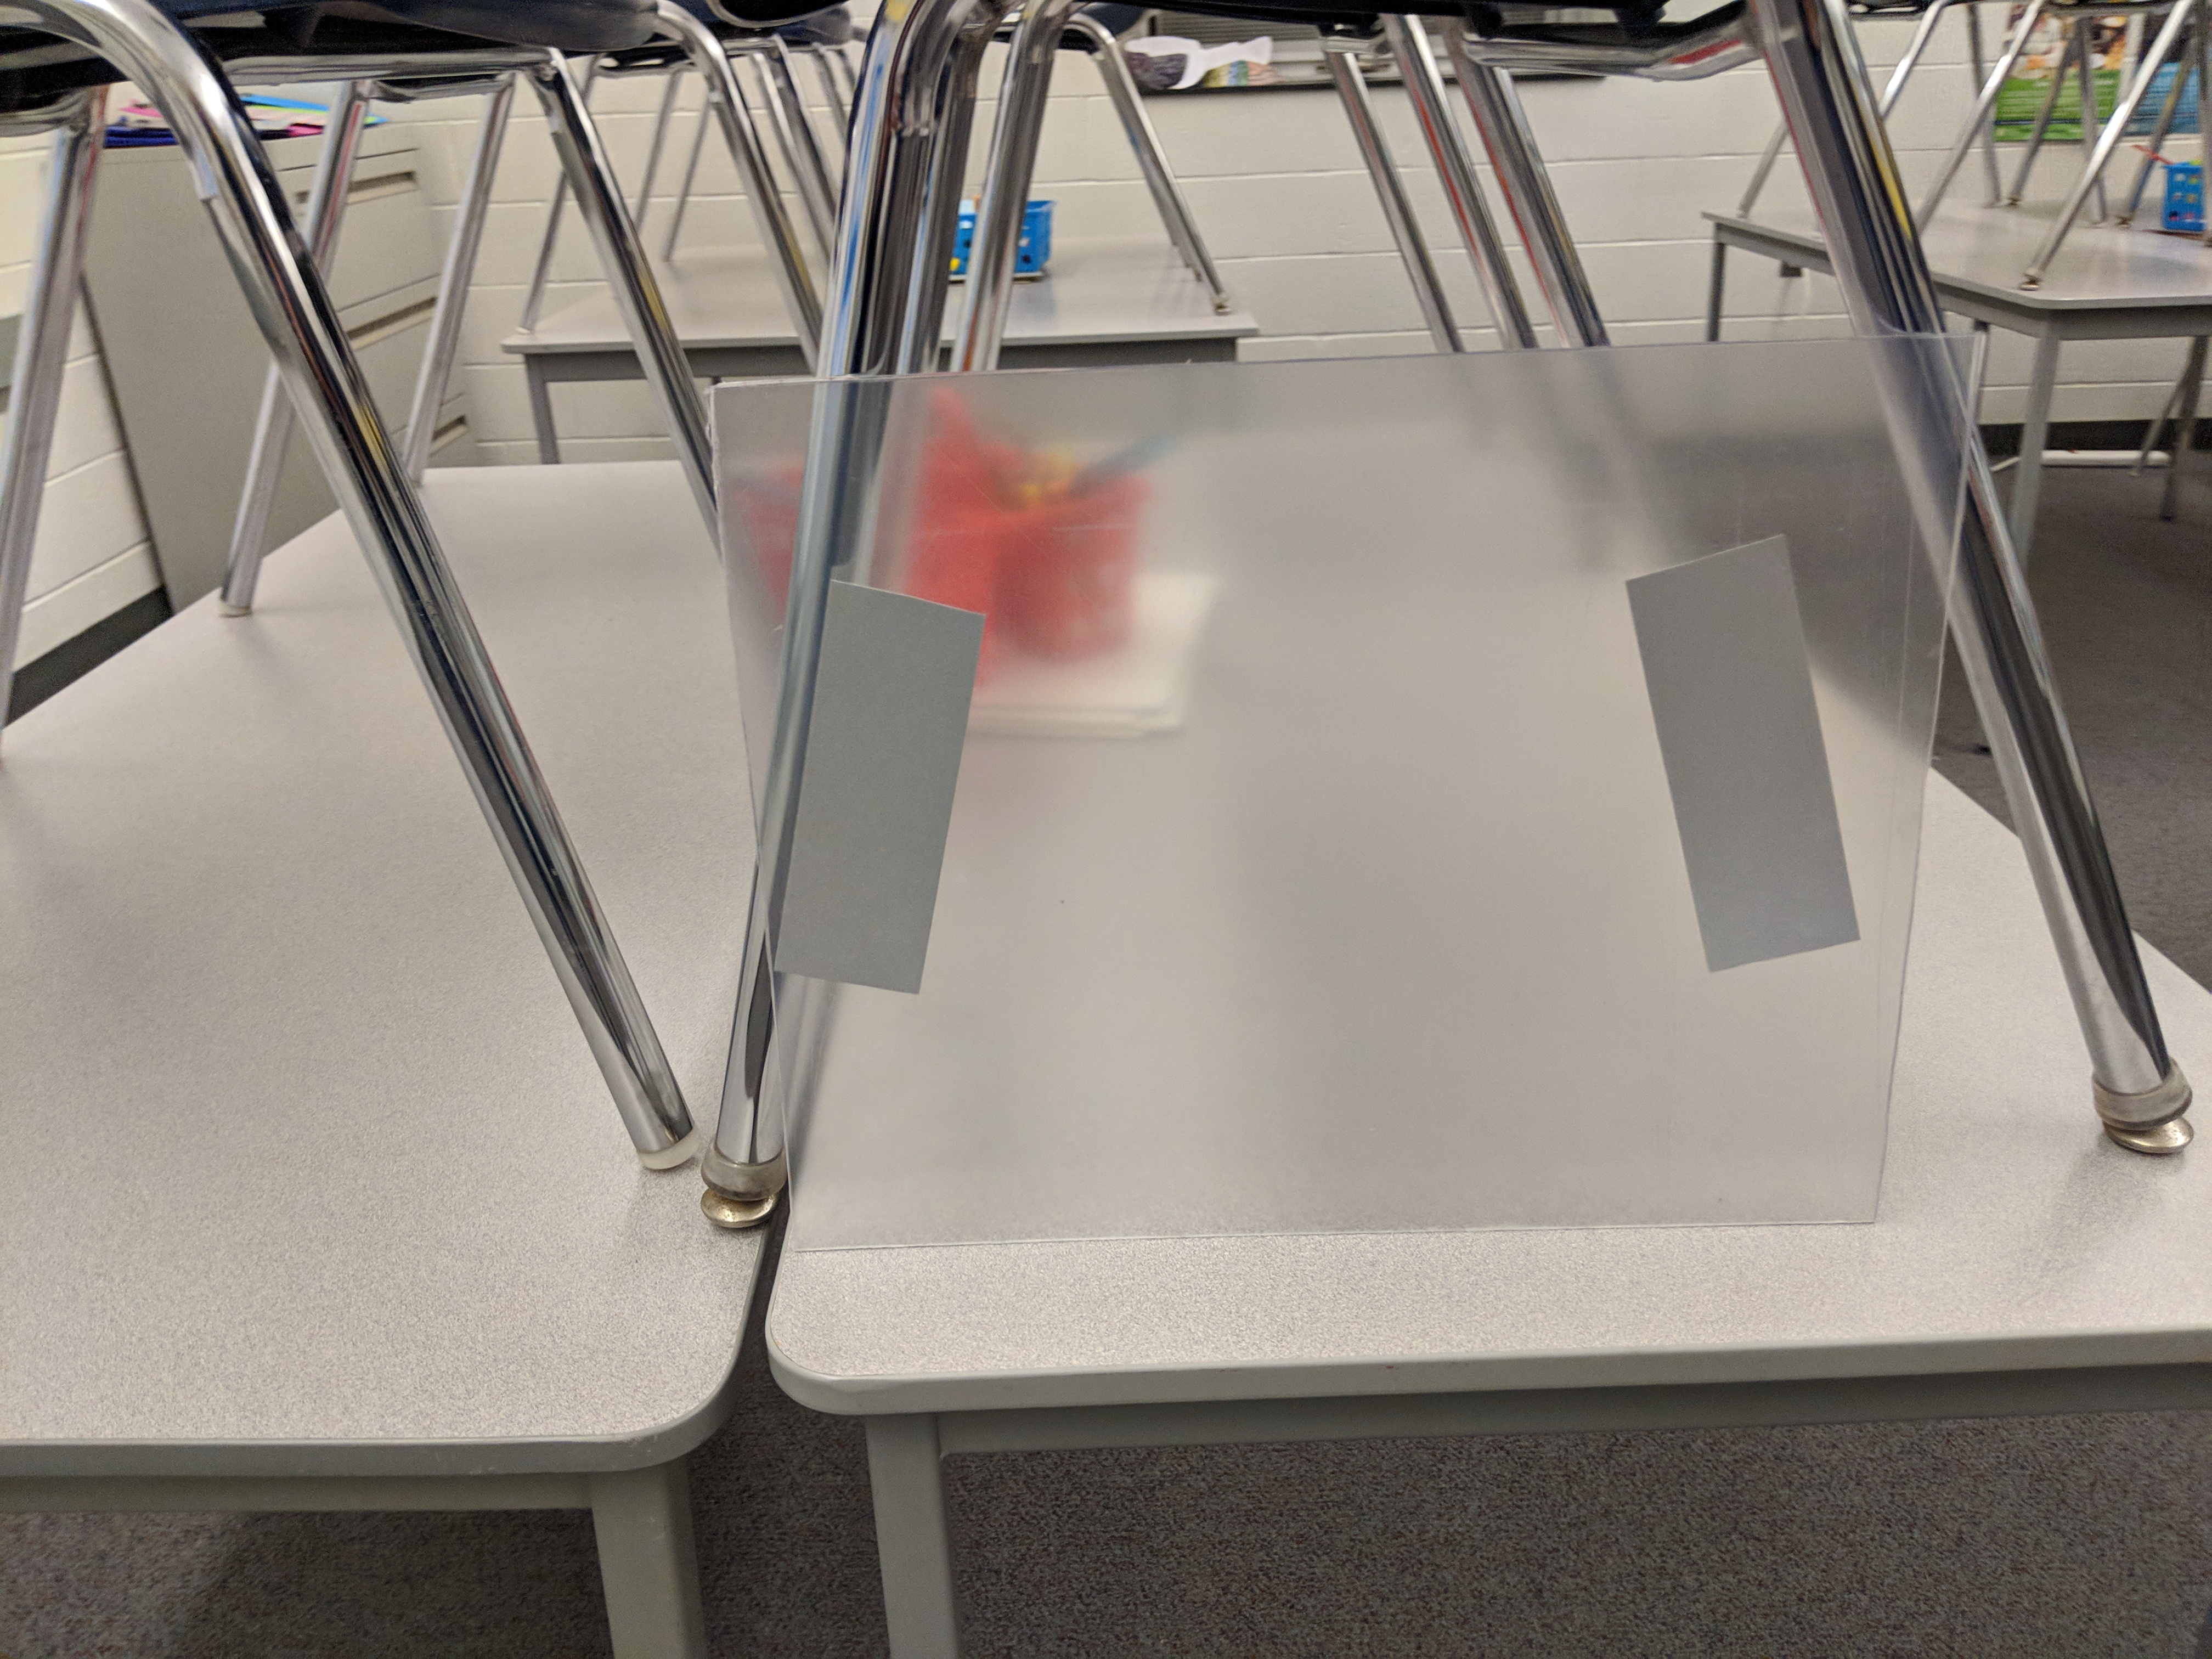vision_target: (752, 521, 1876, 988)
